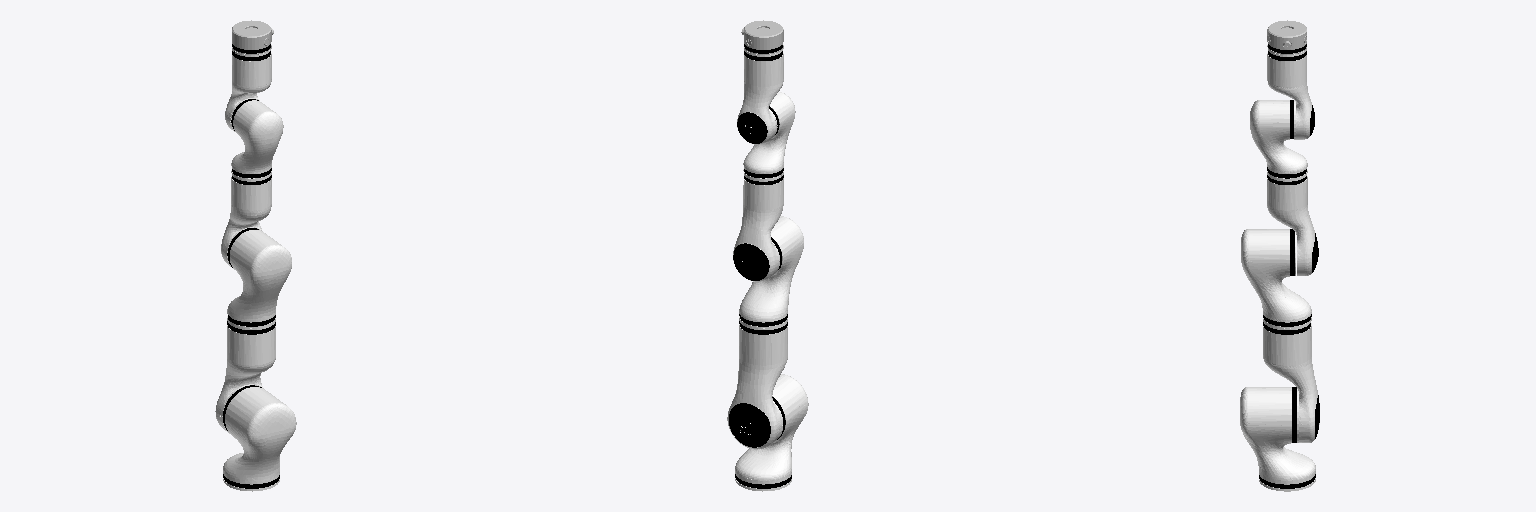
robot.urdf — rm_75_description:
<?xml version='1.0' encoding='UTF-8'?>
<!-- This URDF was automatically created by SolidWorks to URDF Exporter! Originally created by Stephen Brawner (brawner@gmail.com)
     Commit Version: 1.6.0-1-g15f4949  Build Version: 1.6.7594.29634
     For more information, please see http://wiki.ros.org/sw_urdf_exporter-->
<robot name="rm_75_description">
  <link name="base_link">
    <inertial>
      <origin xyz="0.00049987 5.2709E-05 0.060019" rpy="0 0 0"/>
      <mass value="1.862"/>
      <inertia ixx="0.0017232" ixy="-3.1058E-06" ixz="-3.7924E-05" iyy="0.0017051" iyz="1.3691E-06" izz="0.00090158"/>
    </inertial>
    <visual>
      <origin rpy="0 0 0" xyz="0 0 0"/>
      <geometry>
        <mesh filename="package://rm_description/meshes/dae/rm75/base_link.dae"/>
      </geometry>
    </visual>
    <collision>
      <origin xyz="0 0 0" rpy="0 0 0"/>
      <geometry>
        <mesh filename="package://rm_description/meshes/RM75/base_link.STL"/>
      </geometry>
    </collision>
  </link>
  <link name="Link1">
    <inertial>
      <origin rpy="0 0 0" xyz="0.000241 0.00995004875438421 -0.0132729634515197"/>
      <mass value="1.574"/>
      <inertia ixx="0.002487573" ixy="7.90896450576573e-06" ixz="9.66302905131397e-06" iyy="0.00145055531790631" iyz="-0.00017939619746143" izz="0.00232103668209369"/>
    </inertial>
    <visual>
      <origin rpy="1.5708 0 0" xyz="0 0 0"/>
      <geometry>
        <mesh filename="package://rm_description/meshes/dae/rm75/link_1.dae"/>
      </geometry>
    </visual>
    <collision>
      <origin rpy="1.5708 0 0" xyz="0 0 0"/>
      <geometry>
        <mesh filename="package://rm_description/meshes/RM75/link1.STL"/>
      </geometry>
    </collision>
  </link>
  <joint name="joint1" type="revolute">
    <origin rpy="-1.5708 0 0" xyz="0 0 0.2405"/>
    <parent link="base_link"/>
    <child link="Link1"/>
    <axis xyz="0 -0.999999999993254 -3.67320510330504e-06"/>
    <limit lower="-3.106" upper="3.106" effort="60" velocity="3.14"/>
  </joint>
  <link name="Link2">
    <inertial>
      <origin rpy="0 0 0" xyz="-0.000357 0.00532939225786383 0.10678898042477"/>
      <mass value="1.217"/>
      <inertia ixx="0.003494121" ixy="-5.61301072939424e-06" ixz="-2.92097938228005e-06" iyy="0.00344408428941695" iyz="0.000583874628319345" izz="0.000892716710583047"/>
    </inertial>
    <visual>
      <origin rpy="-1.5708 0 0" xyz="0 0 0"/>
      <geometry>
        <mesh filename="package://rm_description/meshes/dae/rm75/link_2.dae"/>
      </geometry>
    </visual>
    <collision>
      <origin rpy="-1.5708 0 0" xyz="0 0 0"/>
      <geometry>
        <mesh filename="package://rm_description/meshes/RM75/link2.STL"/>
      </geometry>
    </collision>
  </link>
  <joint name="joint2" type="revolute">
    <origin rpy="1.5708 0 0" xyz="0 0 0"/>
    <parent link="Link1"/>
    <child link="Link2"/>
    <axis xyz="0 0.999999999993254 -3.67320510330504e-06"/>
    <limit lower="-2.2689" upper="2.2689" effort="60" velocity="3.14"/>
  </joint>
  <link name="Link3">
    <inertial>
      <origin rpy="0 0 0" xyz="3e-06 0.0113240513513309 -0.0139799584045311"/>
      <mass value="1.11"/>
      <inertia ixx="0.001836663" ixy="4.21599170220123e-06" ixz="2.25901548621747e-06" iyy="0.00106254527304991" iyz="-3.71686027285797e-05" izz="0.00149887472695008"/>
    </inertial>
    <visual>
      <origin rpy="1.5708 0 0" xyz="0 0 0"/>
      <geometry>
        <mesh filename="package://rm_description/meshes/dae/rm75/link_3.dae"/>
      </geometry>
    </visual>
    <collision>
      <origin rpy="1.5708 0 0" xyz="0 0 0"/>
      <geometry>
        <mesh filename="package://rm_description/meshes/RM75/link3.STL"/>
      </geometry>
    </collision>
  </link>
  <joint name="joint3" type="revolute">
    <origin rpy="-1.5708 0 0" xyz="0 9.40340506446091e-07 0.255999999998273"/>
    <parent link="Link2"/>
    <child link="Link3"/>
    <axis xyz="0 -0.999999999993254 -3.67320510330504e-06"/>
    <limit lower="-3.106" upper="3.106" effort="30" velocity="3.14"/>
  </joint>
  <link name="Link4">
    <inertial>
      <origin rpy="0 0 0" xyz="-5e-06 0.00474731096616561 0.0846579825627242"/>
      <mass value="0.685"/>
      <inertia ixx="0.001282444" ixy="-6.29997976059737e-07" ixz="5.51002314115497e-07" iyy="0.00125617870497235" iyz="0.000232080755951225" izz="0.000373011295027649"/>
    </inertial>
    <visual>
      <origin rpy="-1.5708 0 0" xyz="0 0 0"/>
      <geometry>
        <mesh filename="package://rm_description/meshes/dae/rm75/link_4.dae"/>
      </geometry>
    </visual>
    <collision>
      <origin rpy="-1.5708 0 0" xyz="0 0 0"/>
      <geometry>
        <mesh filename="package://rm_description/meshes/RM75/link4.STL"/>
      </geometry>
    </collision>
  </link>
  <joint name="joint4" type="revolute">
    <origin rpy="1.5708 0 0" xyz="0 0 0"/>
    <parent link="Link3"/>
    <child link="Link4"/>
    <axis xyz="0 0.999999999993253 -3.67320510330504e-06"/>
    <limit lower="-2.356" upper="2.356" effort="30" velocity="3.14"/>
  </joint>
  <link name="Link5">
    <inertial>
      <origin rpy="0 0 0" xyz="7.79999999999999e-05 0.00878104752019518 -0.0129369677454987"/>
      <mass value="0.619"/>
      <inertia ixx="0.000627336" ixy="1.34499399062738e-06" ixz="1.63600494044982e-06" iyy="0.000370291256906287" iyz="-3.49706323927397e-05" izz="0.000542454743093712"/>
    </inertial>
    <visual>
      <origin rpy="1.5708 0 0" xyz="0 0 0"/>
      <geometry>
        <mesh filename="package://rm_description/meshes/dae/rm75/link_5.dae"/>
      </geometry>
    </visual>
    <collision>
      <origin rpy="1.5708 0 0" xyz="0 0 0"/>
      <geometry>
        <mesh filename="package://rm_description/meshes/RM75/link5.STL"/>
      </geometry>
    </collision>
  </link>
  <joint name="joint5" type="revolute">
    <origin rpy="-1.5708 0 0" xyz="0 7.71373071694059e-07 0.209999999998583"/>
    <parent link="Link4"/>
    <child link="Link5"/>
    <axis xyz="0 -0.999999999993253 -3.67320510330504e-06"/>
    <limit lower="-3.106" upper="3.106" effort="10" velocity="3.14"/>
  </joint>
  <link name="Link6">
    <inertial>
      <origin rpy="0 0 0" xyz="-1.4e-05 0.00281928843473851 0.078523989644705"/>
      <mass value="0.602"/>
      <inertia ixx="0.000780774" ixy="-4.68999555539018e-07" ixz="1.21001722732377e-07" iyy="0.000763955885331537" iyz="0.000120511258963647" izz="0.000289972114668462"/>
    </inertial>
    <visual>
      <origin rpy="-1.5708 0 0" xyz="0 0 0"/>
      <geometry>
        <mesh filename="package://rm_description/meshes/dae/rm75/link_6.dae"/>
      </geometry>
    </visual>
    <collision>
      <origin rpy="-1.5708 0 0" xyz="0 0 0"/>
      <geometry>
        <mesh filename="package://rm_description/meshes/RM75/link6.STL"/>
      </geometry>
    </collision>
  </link>
  <joint name="joint6" type="revolute">
    <origin rpy="1.5708 0 0" xyz="0 0 0"/>
    <parent link="Link5"/>
    <child link="Link6"/>
    <axis xyz="0 0.999999999993253 -3.67320510330504e-06"/>
    <limit lower="-2.234" upper="2.234" effort="10" velocity="3.14"/>
  </joint>
  <link name="Link7">
    <inertial>
      <origin xyz="0.001094 -0.000077 -0.010119" rpy="0 0 0"/>
      <mass value="0.107"/>
      <inertia ixx="0.000044123" ixy="-0.000000064" ixz="0.0000003" iyy="0.000035078" iyz="-0.000000029" izz="0.000065445"/>
    </inertial>
    <visual>
      <origin rpy="0 0 0" xyz="0 0 0"/>
      <geometry>
        <mesh filename="package://rm_description/meshes/dae/rm75/link_7.dae"/>
      </geometry>
    </visual>
    <collision>
      <origin xyz="0 0 0" rpy="0 0 0"/>
      <geometry>
        <mesh filename="package://rm_description/meshes/RM75/link7.STL"/>
      </geometry>
    </collision>
  </link>
  <joint name="joint7" type="revolute">
    <origin rpy="0 0 0" xyz="0 5.28941534875926e-07 0.143999999999028"/>
    <parent link="Link6"/>
    <child link="Link7"/>
    <axis xyz="0 0 1"/>
    <limit lower="-6.28" upper="6.28" effort="10" velocity="3.14"/>
  </joint>
</robot>

--- Render facts (derived) ---
The picture shows the robot from 3 angles, left to right: view 1: azimuth 30°, elevation 25°; view 2: azimuth 150°, elevation 25°; view 3: azimuth 270°, elevation 25°; orthographic projection.
Robot: rm_75_description — 8 links, 7 joints (7 revolute); root link base_link; default pose: all joints at 0.
Links seen in each view (by area): view 1: Link1, Link3, Link5, Link2, Link4, Link6, Link7; view 2: Link2, Link4, Link1, Link3, Link6, Link5, Link7; view 3: Link1, Link3, Link2, Link5, Link4, Link6, Link7.
Link boxes in pixels (x1=…): Link1: x1=221, y1=384, x2=296, y2=491; Link3: x1=227, y1=227, x2=291, y2=328; Link5: x1=230, y1=98, x2=283, y2=179; Link2: x1=215, y1=319, x2=275, y2=430; Link4: x1=221, y1=172, x2=271, y2=266; Link6: x1=225, y1=47, x2=271, y2=130; Link7: x1=232, y1=20, x2=273, y2=54; Link2: x1=727, y1=320, x2=787, y2=449; Link4: x1=733, y1=173, x2=783, y2=281; Link1: x1=735, y1=374, x2=808, y2=491; Link3: x1=739, y1=216, x2=803, y2=328; Link6: x1=737, y1=47, x2=783, y2=144; Link5: x1=743, y1=92, x2=795, y2=179; Link7: x1=741, y1=20, x2=783, y2=54; Link1: x1=1240, y1=387, x2=1315, y2=491; Link3: x1=1241, y1=229, x2=1311, y2=328; Link2: x1=1263, y1=319, x2=1319, y2=442; Link5: x1=1250, y1=100, x2=1307, y2=179; Link4: x1=1267, y1=172, x2=1318, y2=275; Link6: x1=1267, y1=49, x2=1314, y2=139; Link7: x1=1267, y1=20, x2=1306, y2=54.
Bounding box of the posed robot: 0.082 × 0.115 × 0.712 m (x, y, z).
7 mesh visuals loaded from 8 distinct referenced files (7 Collada DAE); not drawn: 1 (reference not matched to a file when rendering).
